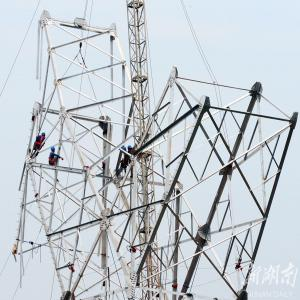blue: (52, 147, 57, 154), (42, 132, 47, 138), (123, 147, 128, 153), (128, 146, 133, 151)
